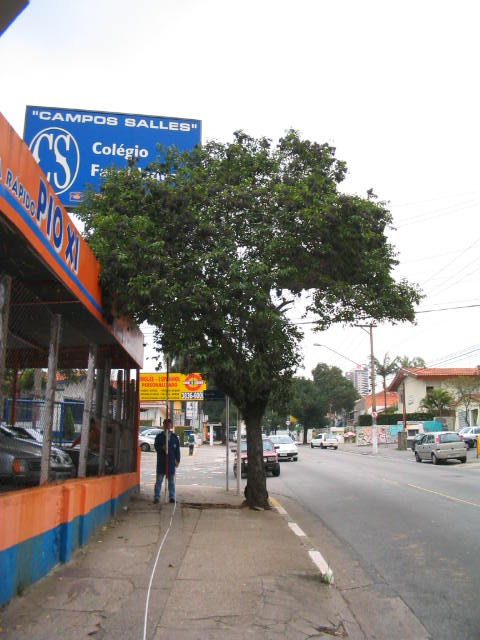crown: (80, 131, 422, 418)
stem: (227, 417, 281, 508)
stick: (158, 358, 178, 504)
tree: (78, 130, 424, 509)
